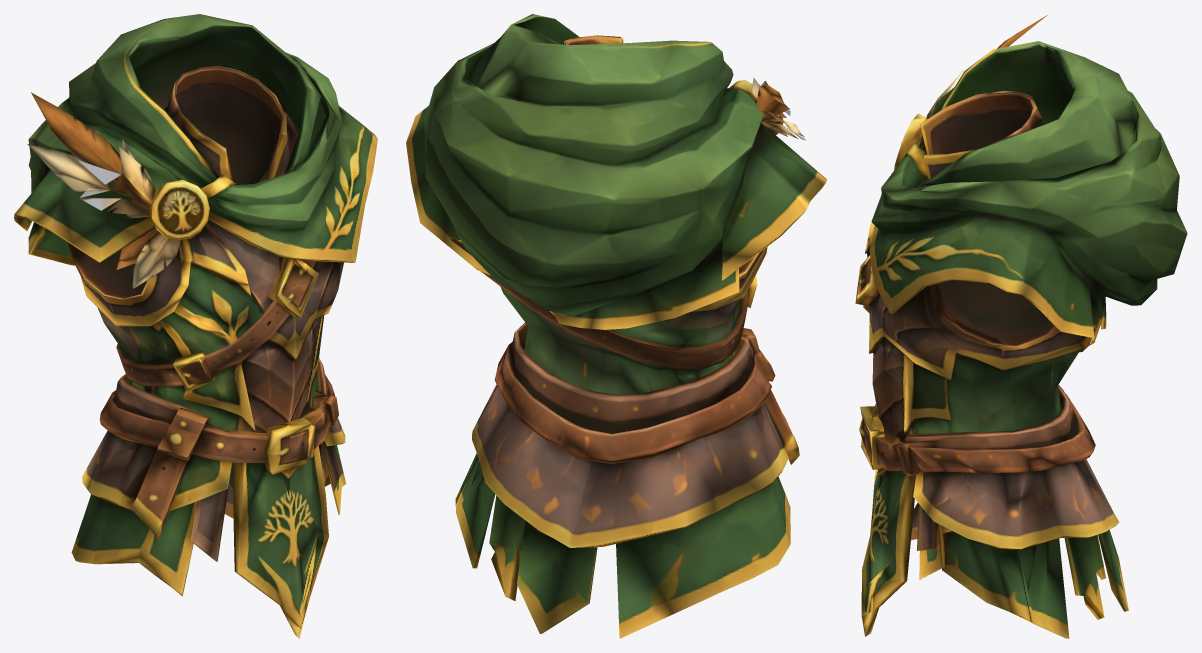
File: meshy.glb
3 renders of one model, left to right at view 1: azimuth 30°, elevation 25°; view 2: azimuth 150°, elevation 25°; view 3: azimuth 270°, elevation 25°, orthographic. The views are drawn at different scales.
Parts seen in each view (by area): view 1: geometry_0; view 2: geometry_0; view 3: geometry_0.
Boxes of the visible parts, x1,y1,x2,y2 form: geometry_0: [14, 14, 377, 638]; geometry_0: [406, 14, 826, 638]; geometry_0: [855, 15, 1187, 638].
Bounding box in the file's own units: 0.6538 × 0.9531 × 0.5176.
Materials: 1 (1 with a texture image).
